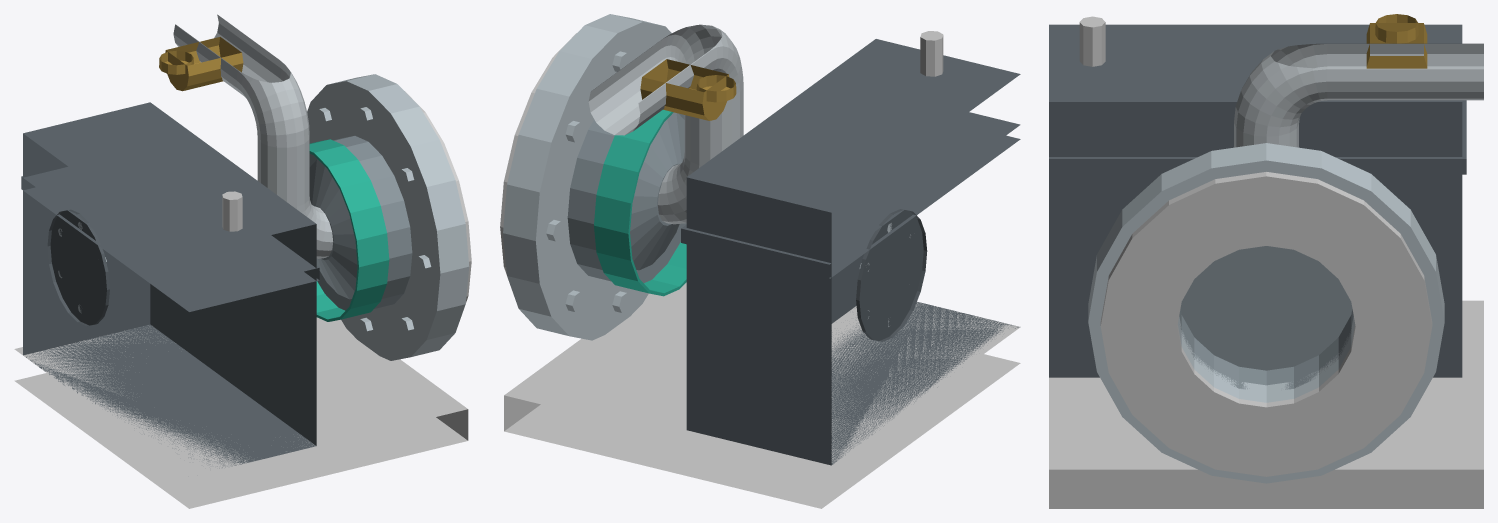
File: cell_5.obj
The picture shows the model from 3 angles, left to right: view 1: azimuth 30°, elevation 25°; view 2: azimuth 150°, elevation 25°; view 3: azimuth 270°, elevation 25°; orthographic projection. The views are drawn at different scales.
Size of the model in its own units: 1 by 1 by 1.
